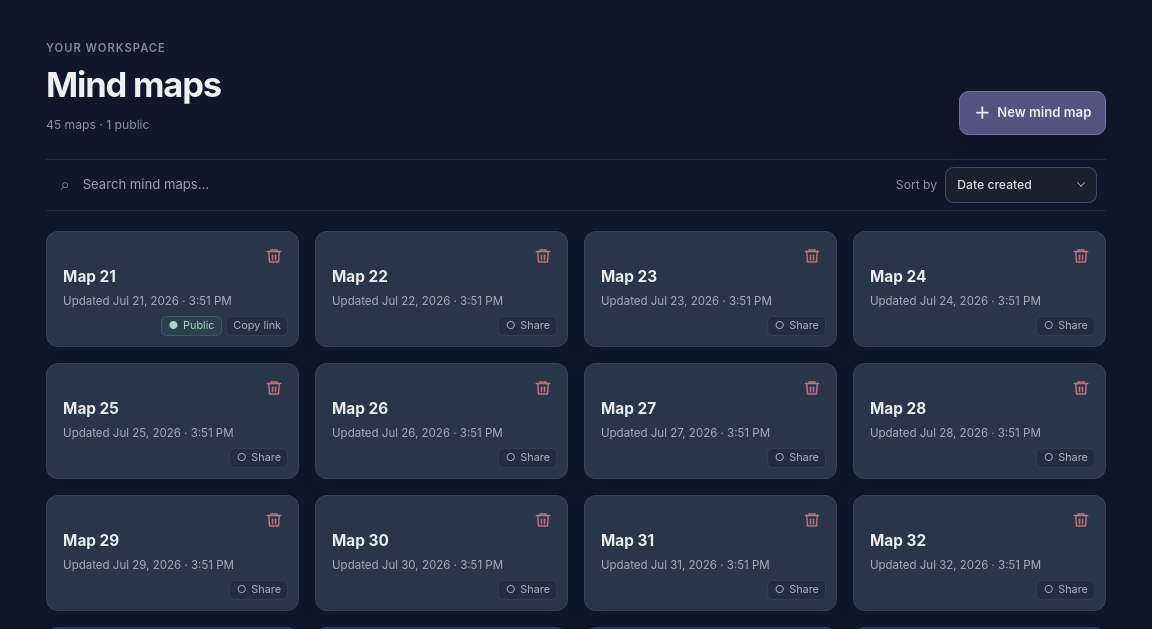
Scenario: MindMapList pagination › clears the search and returns to the first page
Type "Map 21" into the field named "Search mind maps" at (290, 185), box [77,168,503,202]
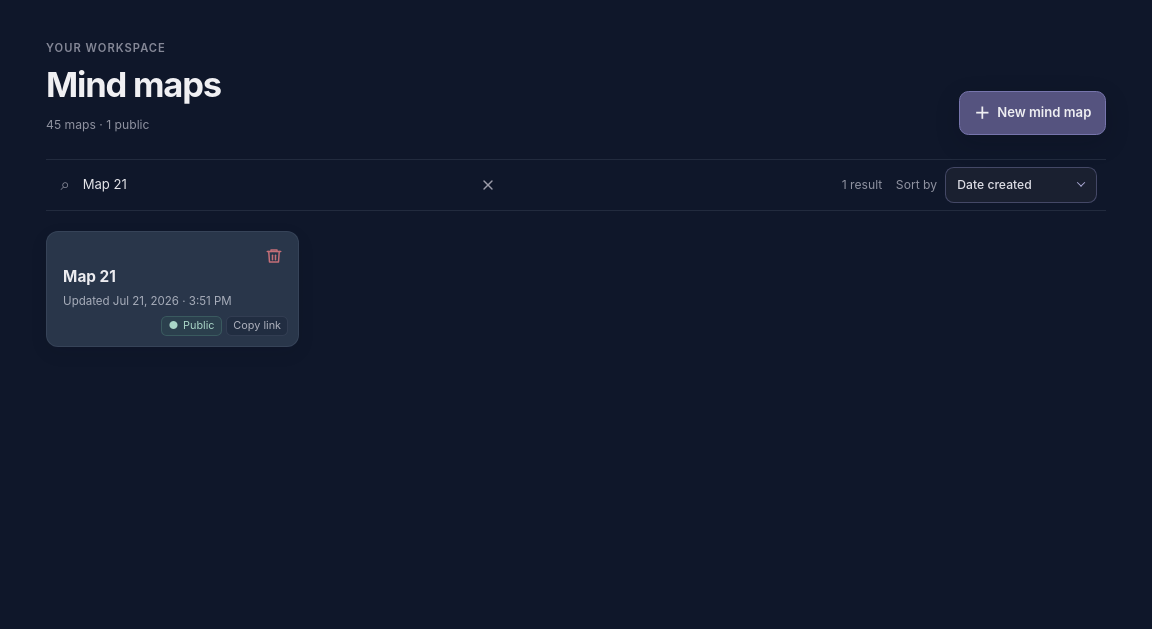
Expected: the button with aria-label "Open Map 21" is shown, [47,232,298,346]
Expected: the heading "Map 21" is shown, [63,268,116,286]
Click the button named "Clear search" at (488, 185), box [474,171,501,199]
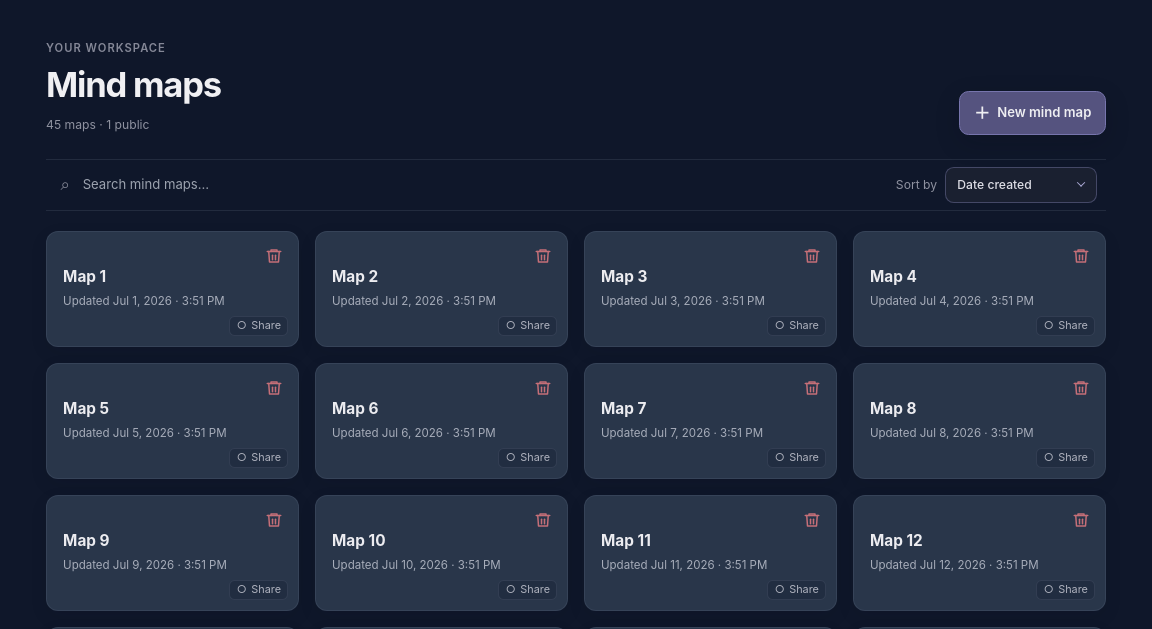
Now the field named "Search mind maps" is empty, box [77,168,503,202]
Now the button with aria-label "Open Map 1" is shown, box [47,232,298,346]
